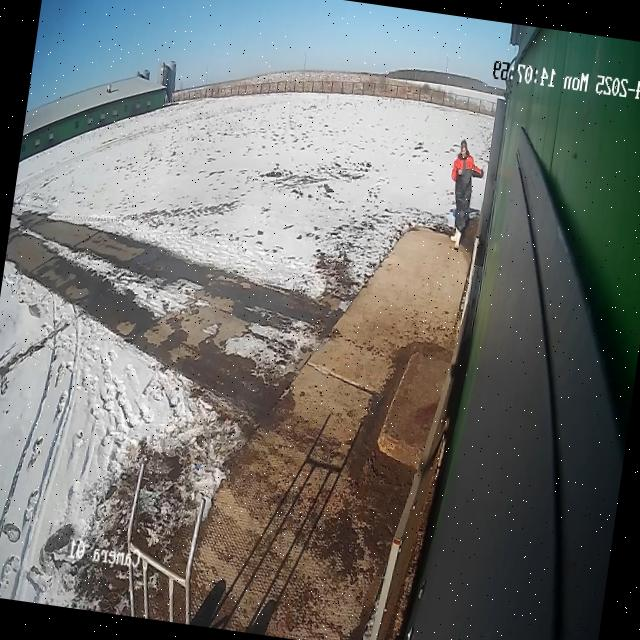Red uniform: (452, 139, 484, 249)
